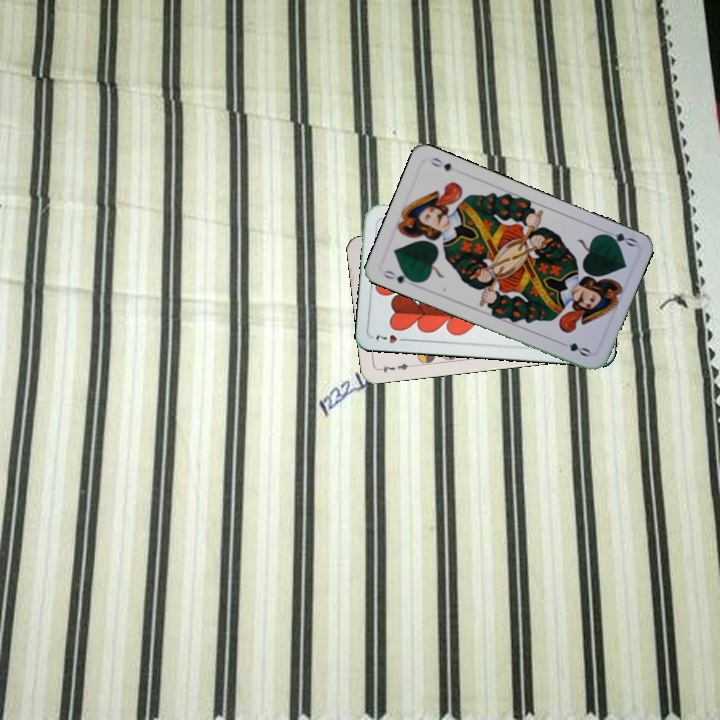E7: (375, 359, 416, 375)
GO: (598, 226, 639, 249), (379, 266, 419, 286)
H7: (372, 331, 411, 346)
